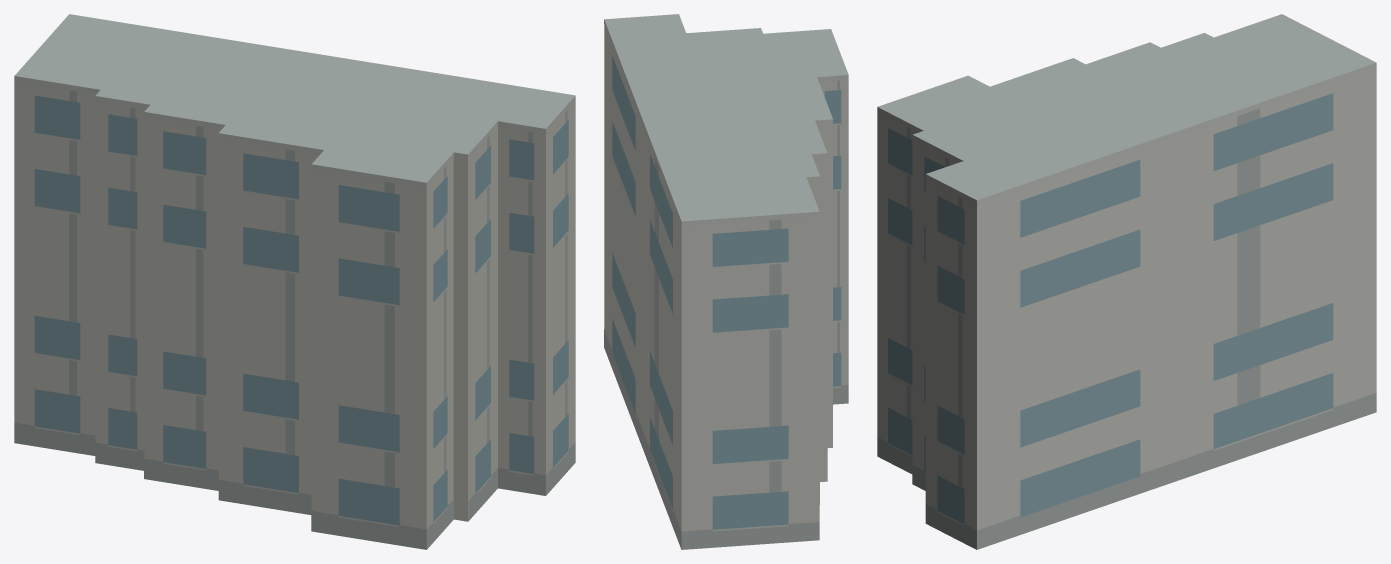
File: survey-upis-32925424.glb
The picture shows the model from 3 angles, left to right: view 1: azimuth 30°, elevation 25°; view 2: azimuth 150°, elevation 25°; view 3: azimuth 270°, elevation 25°; orthographic projection. The views are drawn at different scales.
Parts seen in each view (by area): view 1: survey-upis-32925424.tmp; view 2: survey-upis-32925424.tmp; view 3: survey-upis-32925424.tmp.
Boxes of the visible parts, <box> form: survey-upis-32925424.tmp: <box>14,14,575,549</box>; survey-upis-32925424.tmp: <box>604,14,848,549</box>; survey-upis-32925424.tmp: <box>877,14,1376,549</box>.
Size of the model in its own units: 18.07 by 15.8 by 20.47.
